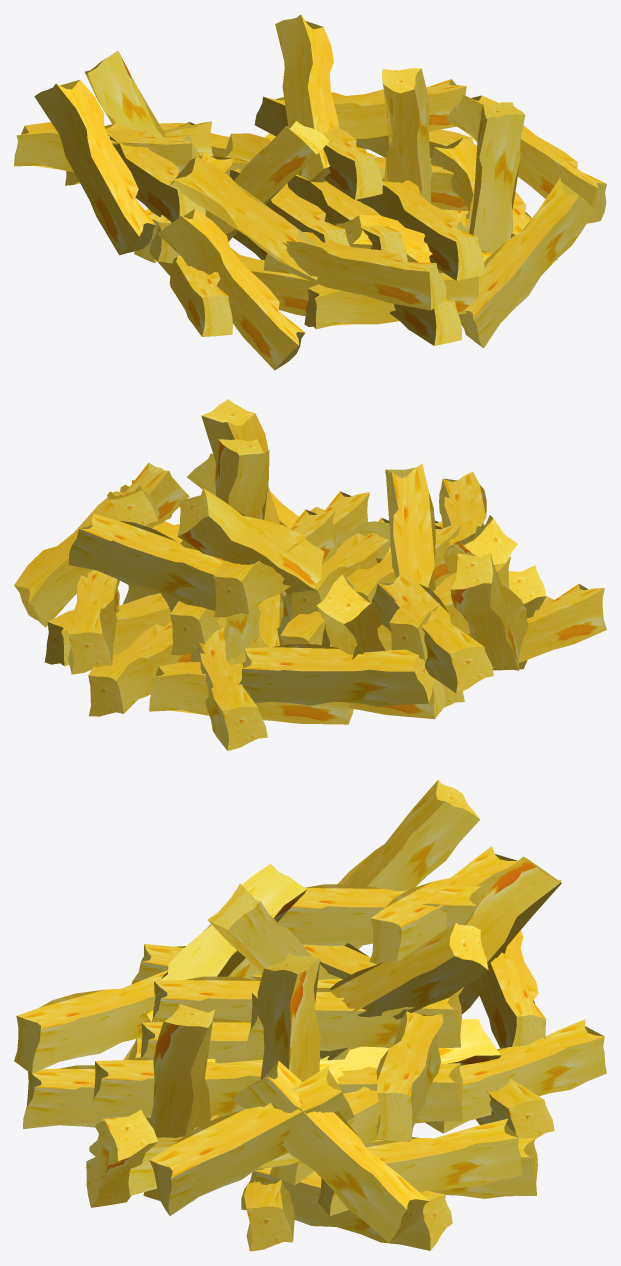
File: cheese_hoopje.glb
3 views of the same model, one above another, from view 1: azimuth 30°, elevation 25°; view 2: azimuth 150°, elevation 25°; view 3: azimuth 270°, elevation 25° (orthographic). The views are drawn at different scales.
Visible parts, largest first — view 1: Cube.035, Cube.037, Cube.023, Cube.039, Cube.026, Cube.004, Cube.014, Cube.017, Cube.027, Cube.032, Cube.007, Cube.002 (+18 smaller); view 2: Cube.031, Cube.040, Cube.004, Cube.034, Cube.033, Cube.035, Cube.007, Cube.024, Cube.036, Cube.021, Cube.002, Cube.028 (+19 smaller); view 3: Cube.033, Cube.032, Cube.039, Cube.004, Cube.028, Cube.036, Cube.035, Cube.026, Cube.015, Cube.017, Cube.040, Cube.034 (+20 smaller).
Part boxes in pixels (x1,y1,x2,y2): Cube.035: (34, 80, 155, 255); Cube.037: (458, 178, 595, 347); Cube.023: (158, 208, 305, 370); Cube.039: (263, 232, 446, 310); Cube.026: (467, 102, 525, 253); Cube.004: (275, 14, 338, 182); Cube.014: (169, 157, 317, 279); Cube.017: (381, 68, 431, 203); Cube.027: (357, 178, 484, 280); Cube.032: (446, 94, 606, 223); Cube.007: (205, 121, 329, 241); Cube.002: (254, 96, 382, 199); Cube.031: (239, 643, 434, 706); Cube.040: (69, 514, 224, 610); Cube.004: (177, 488, 324, 595); Cube.034: (371, 572, 493, 693); Cube.033: (14, 462, 189, 627); Cube.035: (450, 552, 528, 670); Cube.007: (385, 463, 435, 591); Cube.024: (88, 620, 190, 716); Cube.036: (190, 627, 267, 750); Cube.021: (149, 662, 353, 724); Cube.002: (213, 509, 336, 617); Cube.028: (66, 570, 119, 674); Cube.033: (232, 1061, 428, 1242); Cube.032: (149, 1065, 354, 1215); Cube.039: (14, 970, 167, 1073); Cube.004: (320, 922, 488, 1060); Cube.028: (318, 1118, 522, 1215); Cube.036: (425, 1019, 606, 1133); Cube.035: (337, 779, 480, 949); Cube.026: (143, 1004, 215, 1200); Cube.015: (278, 884, 481, 946); Cube.017: (257, 953, 320, 1081); Cube.040: (376, 1011, 443, 1141); Cube.034: (369, 846, 517, 964).
Bounding box in the file's own units: 0.1537 × 0.0717 × 0.1432.
Materials: 41 (41 with a texture image).
